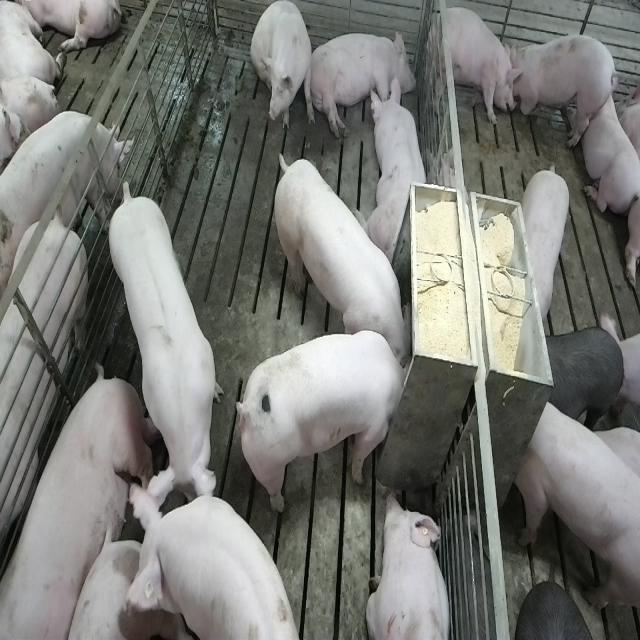Feeding: (244, 329, 418, 517), (270, 145, 411, 365)
Lateral_lying: (3, 366, 162, 640), (307, 26, 417, 140)
Sitting: (251, 2, 316, 138)
Standing: (103, 179, 220, 522), (0, 212, 90, 614), (116, 481, 298, 640), (516, 394, 638, 611), (0, 108, 128, 277), (508, 30, 616, 150), (431, 6, 519, 131), (520, 160, 574, 324), (546, 320, 624, 428)
Sternal_lying: (365, 490, 453, 640), (362, 76, 431, 262), (580, 77, 638, 216)
